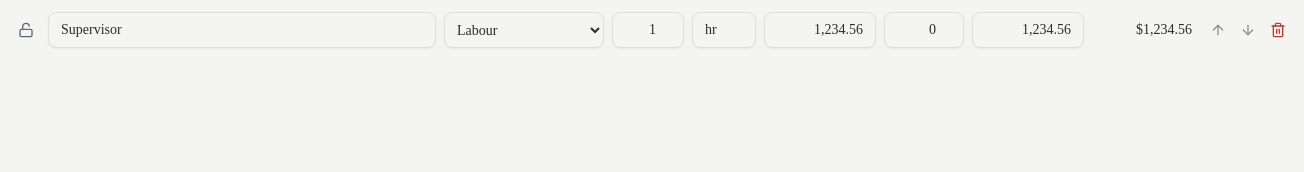
Test: a sell the 2dp markup cannot reproduce keeps the typed sell as an override
The image size is (1304, 172).
Replace the text in the field named "Unit sell" with "1500": [1028, 30] box [972,12,1084,48]
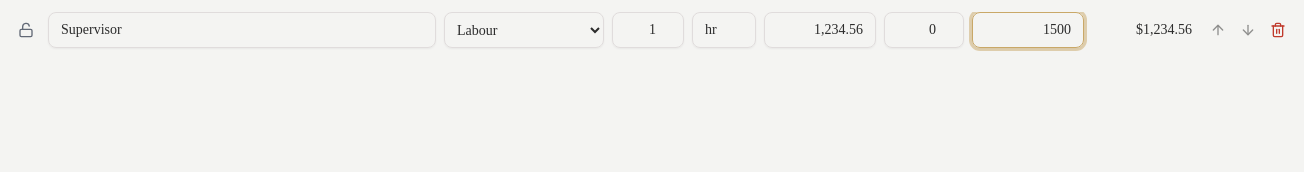
Press Tab
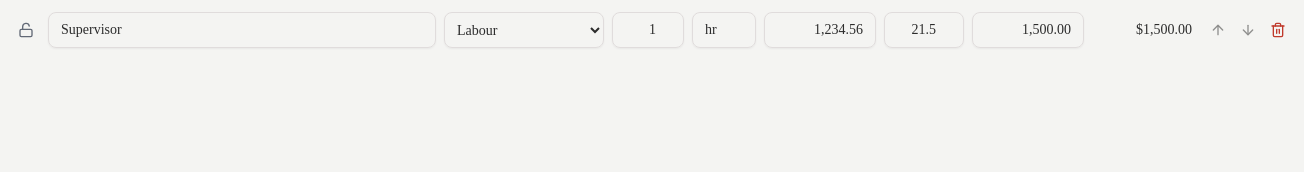
Check: the number field named "Markup %" holds "21.5", box [884,12,964,48]
